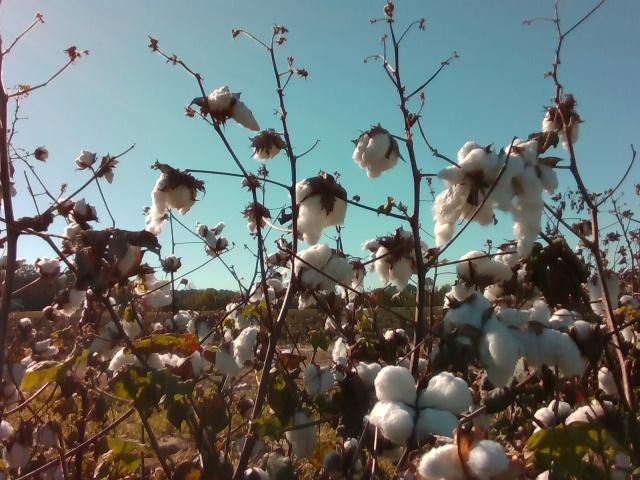cotton_ready: (432, 140, 525, 248), (446, 294, 534, 389), (371, 366, 471, 444), (527, 298, 595, 380), (508, 142, 559, 251), (295, 177, 348, 245), (419, 440, 508, 480), (364, 238, 429, 291), (453, 250, 515, 304), (112, 344, 205, 379), (532, 399, 605, 436), (297, 243, 355, 288), (206, 85, 260, 130), (332, 337, 383, 383), (353, 128, 398, 180), (150, 175, 197, 221), (96, 243, 137, 295), (286, 411, 321, 460), (541, 110, 581, 149), (592, 272, 623, 315), (234, 326, 260, 369), (255, 139, 282, 161)
